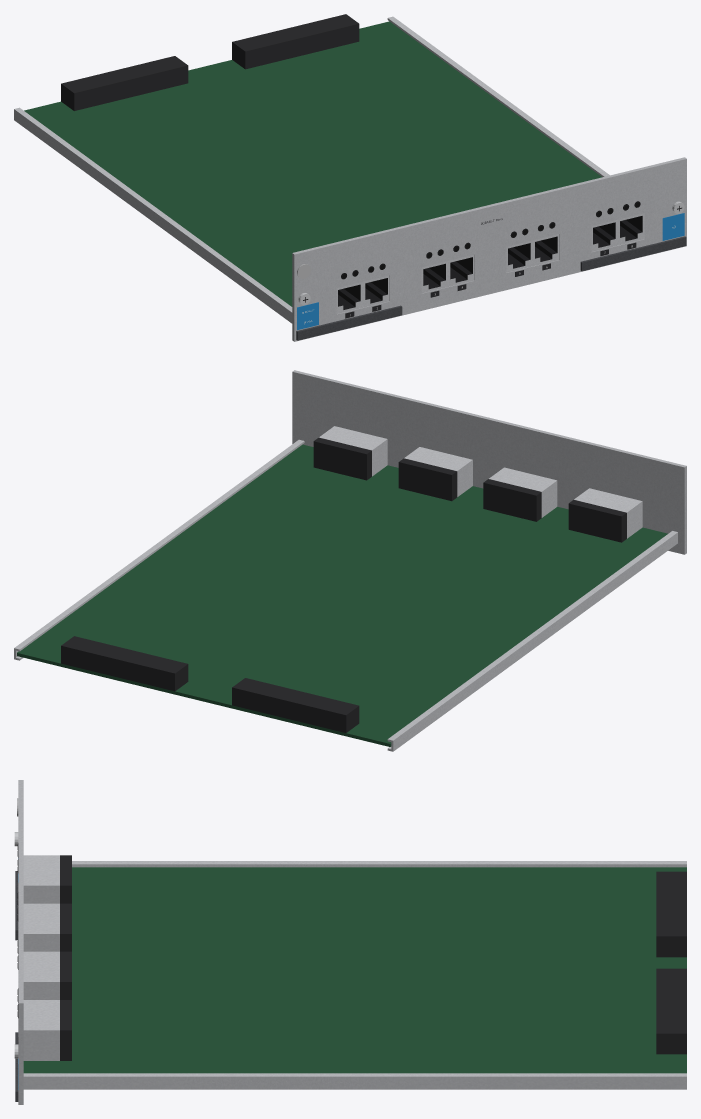
The picture shows the model from 3 angles, top to bottom: view 1: azimuth 30°, elevation 25°; view 2: azimuth 150°, elevation 25°; view 3: azimuth 270°, elevation 25°; orthographic projection. The views are drawn at different scales.
Parts seen in each view (by area): view 1: Module; view 2: Module; view 3: Module.
Part boxes in pixels (x1,y1,x2,y2): Module: (14,14,686,341); Module: (14,370,686,751); Module: (14,780,686,1104).
Size of the model in its own units: 0.2065 by 0.0439 by 0.2633.
13 materials, 3 textured.
